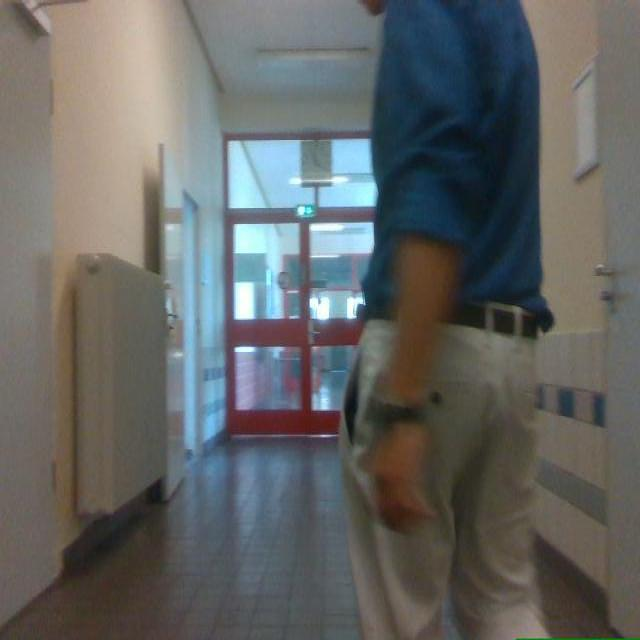humans: (340, 0, 552, 639)
